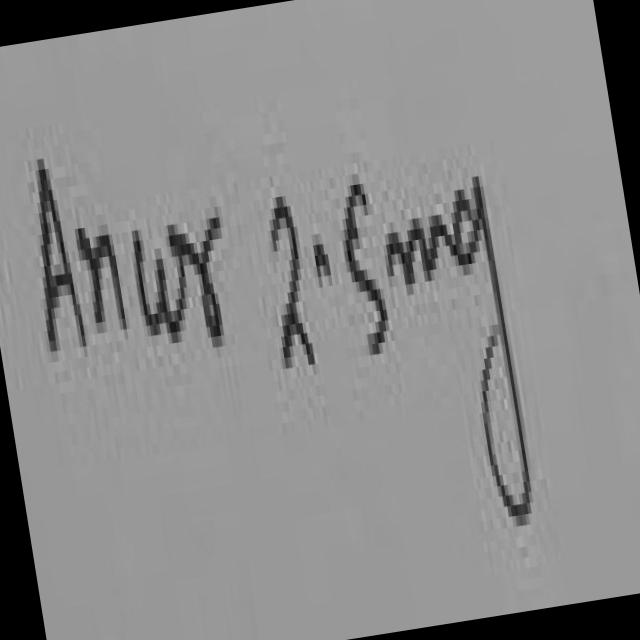2: (273, 196, 314, 368)
5: (346, 184, 389, 349)
A: (40, 159, 86, 351)
c: (134, 230, 164, 336)
g: (453, 176, 534, 526)
m: (389, 215, 455, 284)
n: (79, 228, 126, 324)
o: (158, 243, 188, 338)
r: (170, 218, 224, 347)
